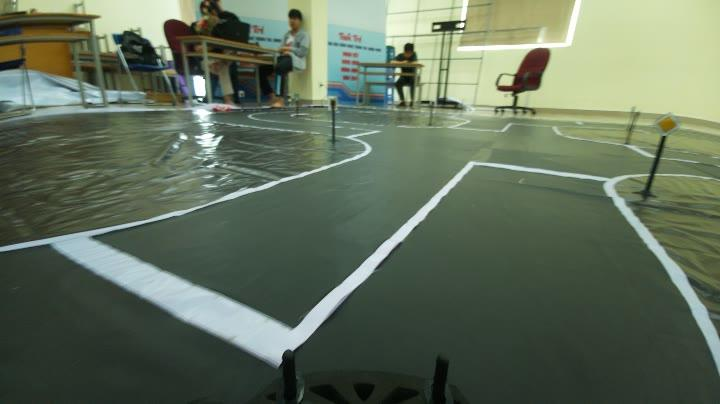priority: (650, 111, 684, 140)
